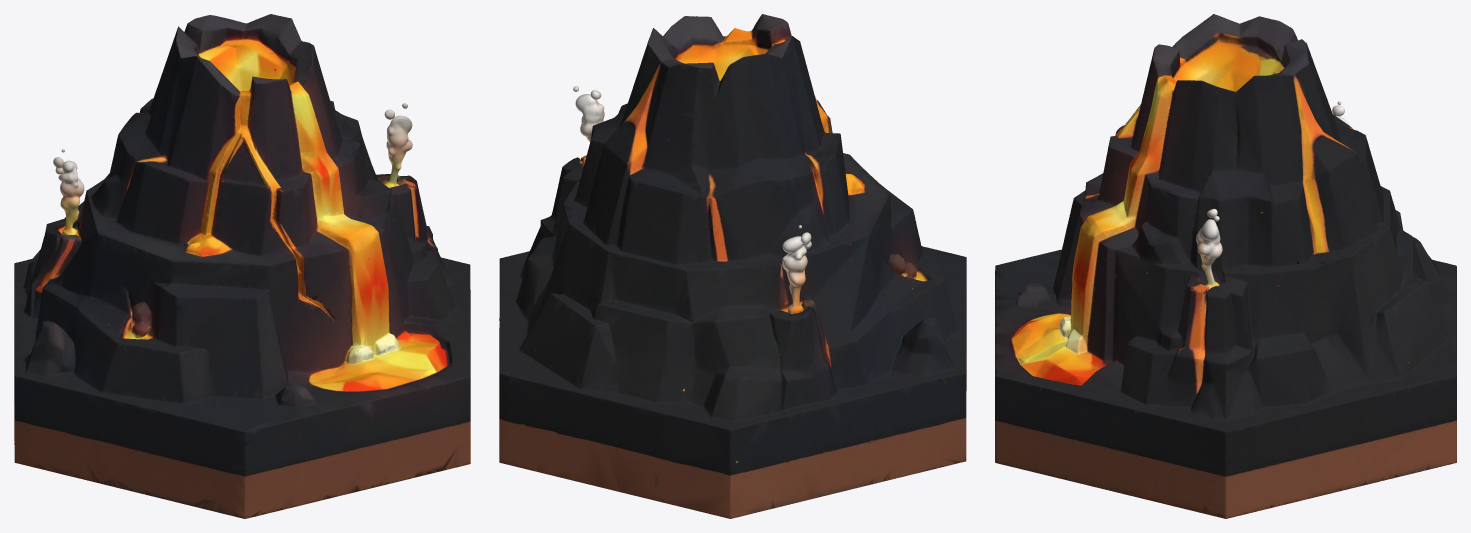
The model's file is rocktile_lv5.glb.
3 views of the same model, side by side, from view 1: azimuth 30°, elevation 25°; view 2: azimuth 150°, elevation 25°; view 3: azimuth 270°, elevation 25° (orthographic). The views are drawn at different scales.
Size of the model in its own units: 1.9 by 1.47 by 1.67.
Materials: 1 (1 with a texture image).
